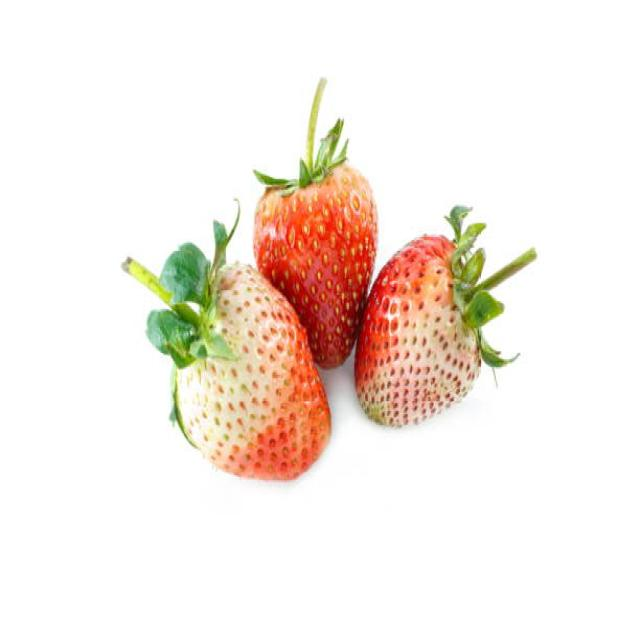Healthy Fruit: (177, 262, 331, 482), (354, 232, 481, 430), (252, 169, 376, 368)
